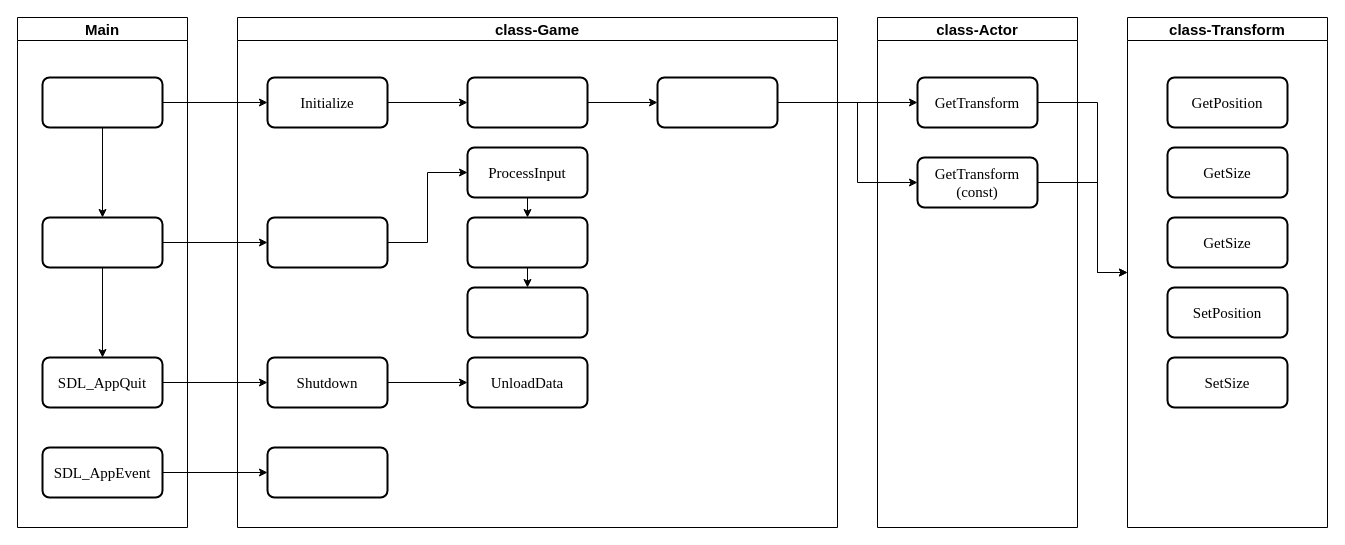
This 1345x545 diagram has some shape labels left out. The shapes that lost their labels are listed below. From the top down, each one's centre as x and y in pixels, then its label:
pixel 102 102: SDL_AppInit
pixel 527 102: LoadData
pixel 717 102: CreateActor
pixel 102 242: SDL_AppIterate
pixel 327 242: RunIteration
pixel 527 242: UpdateGame
pixel 527 312: GenerateOutput
pixel 327 472: HandleEvent
